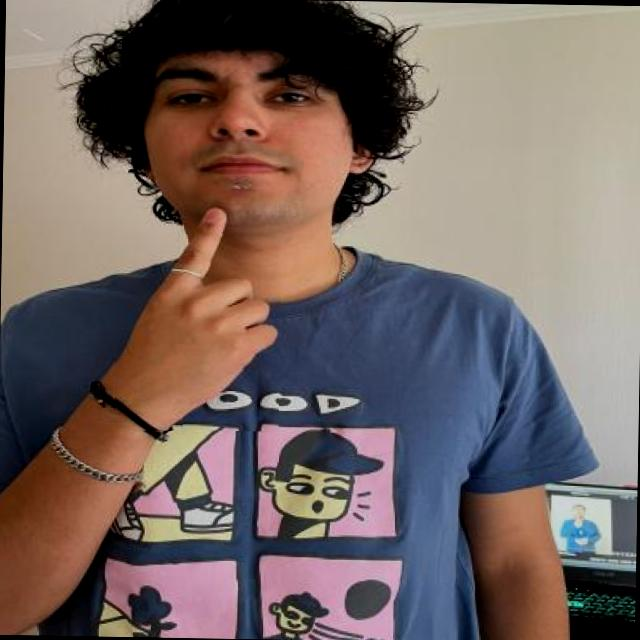T: (111, 198, 282, 432)
